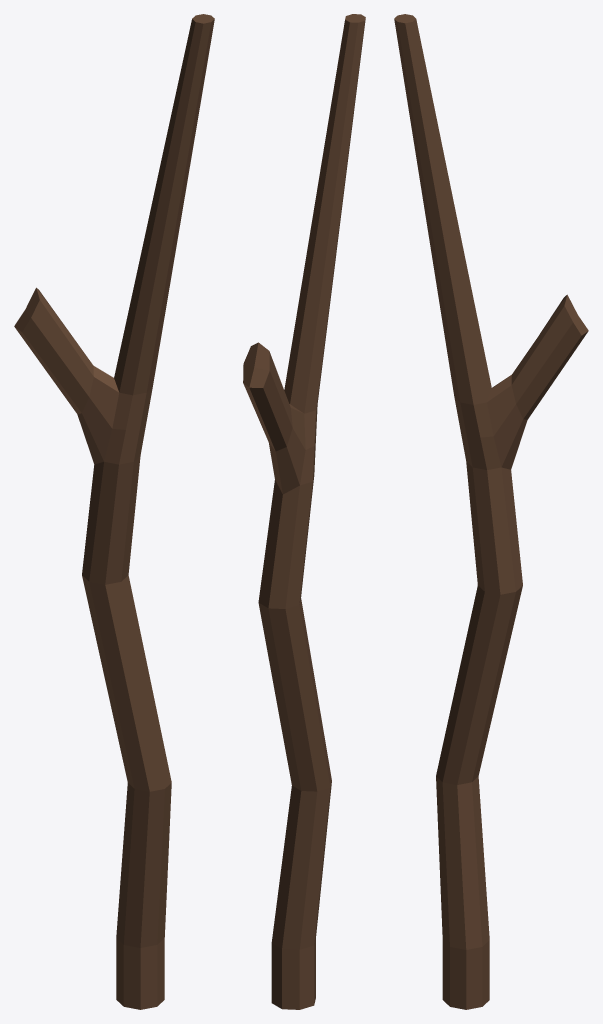
Rendered from StickLowPoly.fbx.
3 renders of one model, left to right at view 1: azimuth 90°, elevation 25°; view 2: azimuth 150°, elevation 25°; view 3: azimuth 270°, elevation 25°, orthographic. The views are drawn at different scales.
Visible parts, largest first — view 1: Stick; view 2: Stick; view 3: Stick.
Part boxes in pixels (box(x1,y1,x2,y2)): Stick: box(14, 14, 214, 1009); Stick: box(243, 14, 365, 1009); Stick: box(394, 14, 588, 1009).
Size of the model in its own units: 299 by 4530 by 827.
